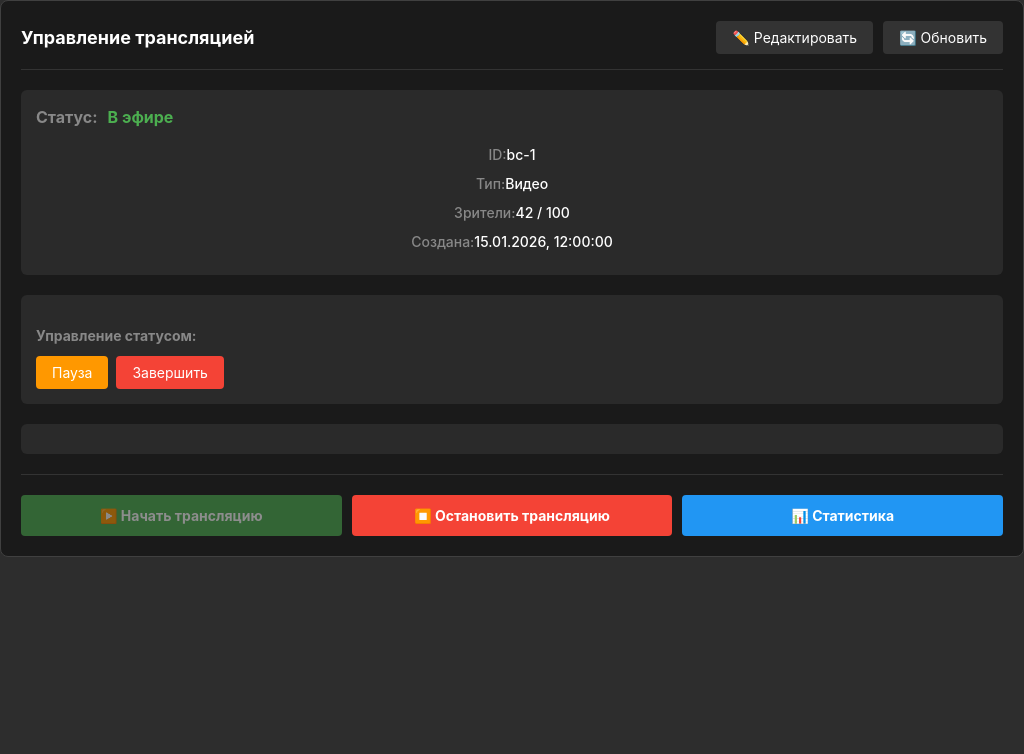
Test: BroadcastControls › enters edit mode when edit button is clicked
Click the button "✏️ Редактировать".
click(795, 38)  # box [716,21,873,54]
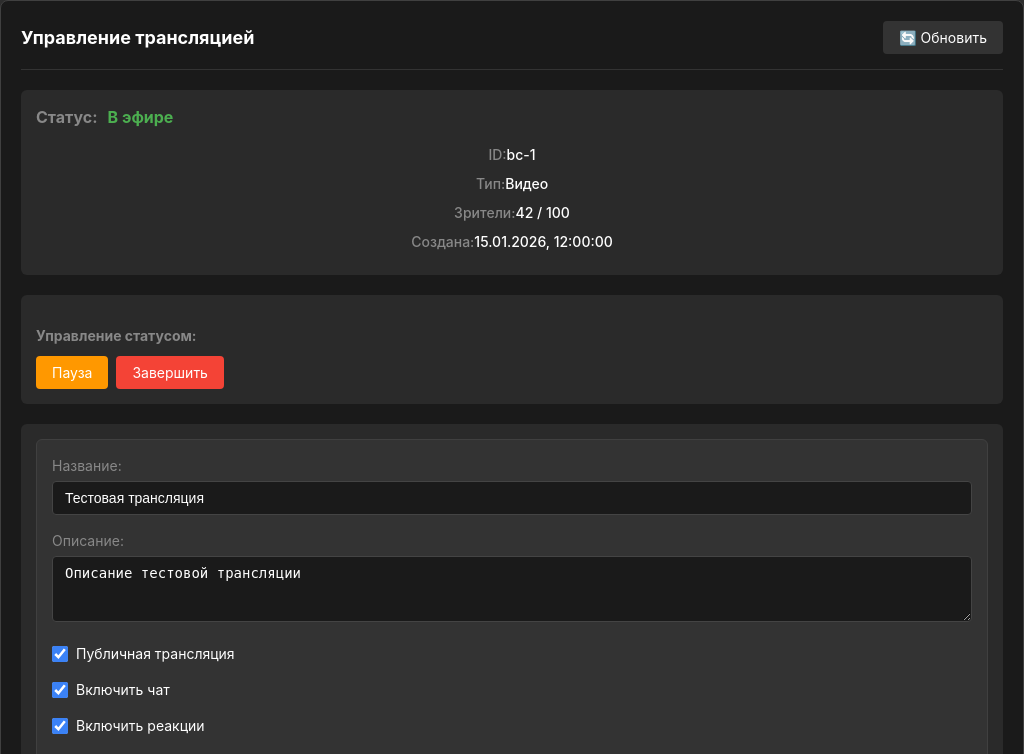
Result: the text "Название:" is shown at [52,457,122,474]
Result: the text "Описание:" is shown at [52,532,124,549]
Result: the text "Публичная трансляция" is shown at [52,645,235,662]
